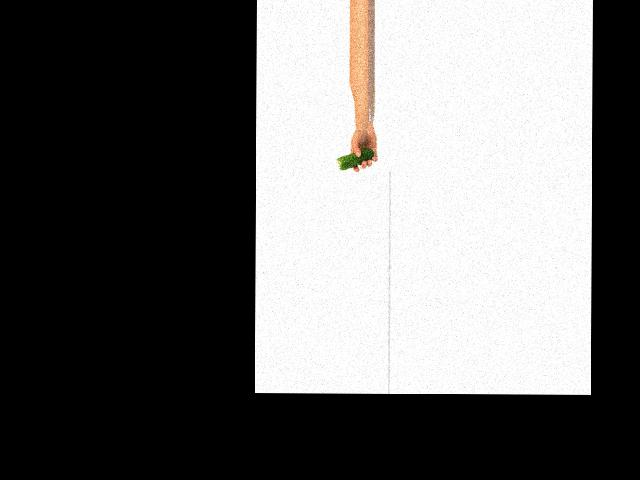cucumber: (337, 147, 374, 169)
